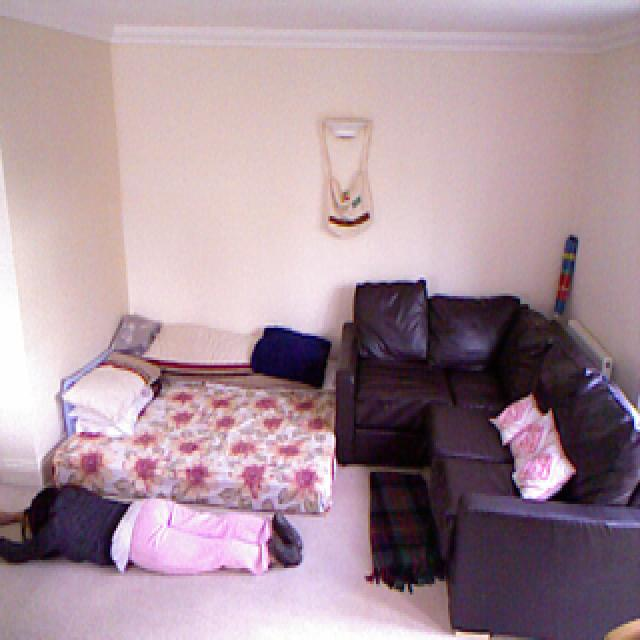lying: (20, 488, 327, 585)
